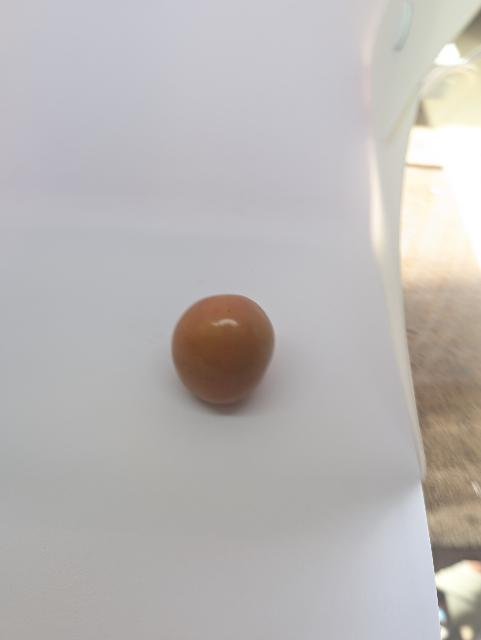turning: (168, 286, 278, 413)
